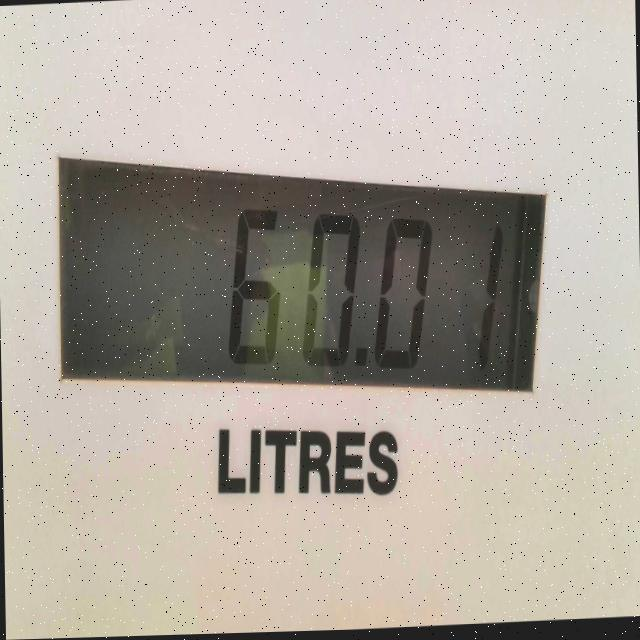.: (357, 351, 367, 373)
0: (374, 219, 431, 375), (302, 216, 354, 366)
1: (474, 217, 508, 374)
6: (230, 207, 284, 366)
